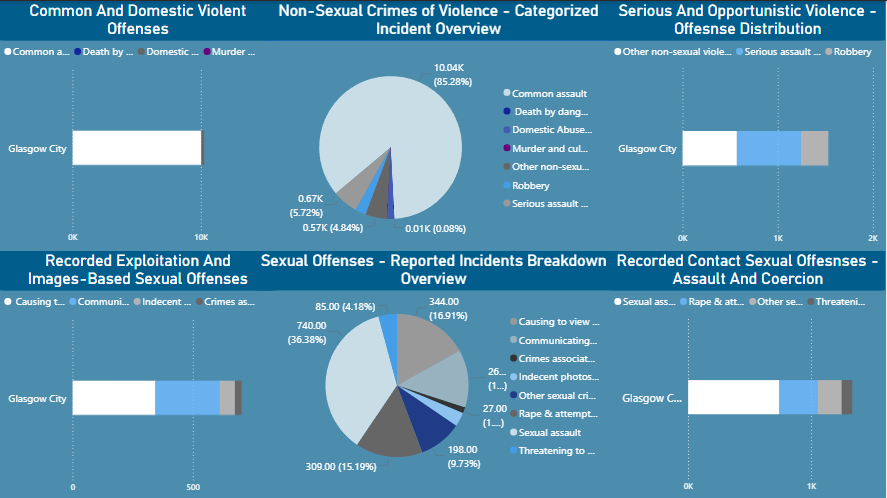

What the dashboard file says about the page in this screenshot:
{"tool":"powerbi","page":{"name":"Page 2","canvas":[1280,720],"ordinal":1},"visuals":[{"type":"barChart","title":"Serious And Opportunistic Violence - Offesnse Distribution","fields":{"Category":["Scotland Crime Report 2022-23, Cities Breakdown.Reference Area"],"Y":["Sum(Scotland Crime Report 2022-23, Cities Breakdown.Crimes: Group 1: Other non-sexual violence)","Sum(Scotland Crime Report 2022-23, Cities Breakdown.Crimes: Group 1: Serious assault and attempted murder)","Sum(Scotland Crime Report 2022-23, Cities Breakdown.Crimes: Group 1: Robbery)"]},"box":[881.9,0,398.1,361.2],"z":0},{"type":"barChart","title":"Recorded Exploitation And Images-Based Sexual Offenses","fields":{"Category":["Scotland Crime Report 2022-23, Cities Breakdown.Reference Area"],"Y":["Sum(Scotland Crime Report 2022-23, Cities Breakdown.Crimes: Group 2: Causing to view sexual activity or images)","Sum(Scotland Crime Report 2022-23, Cities Breakdown.Crimes: Group 2: Communicating indecently)","Sum(Scotland Crime Report 2022-23, Cities Breakdown.Crimes: Group 2: Indecent photos of children)","Sum(Scotland Crime Report 2022-23, Cities Breakdown.Crimes: Group 2: Crimes associated with prostitution)"]},"box":[0,361.2,398.1,359.5],"z":1000},{"type":"barChart","title":"Common And Domestic Violent Offenses","fields":{"Category":["Scotland Crime Report 2022-23, Cities Breakdown.Reference Area"],"Y":["Sum(Scotland Crime Report 2022-23, Cities Breakdown.Crimes: Group 1: Common assault)","Sum(Scotland Crime Report 2022-23, Cities Breakdown.Crimes: Group 1: Death by dangerous driving)","Sum(Scotland Crime Report 2022-23, Cities Breakdown.Crimes: Group 1: Domestic Abuse (Scotland) Act 2018)","Sum(Scotland Crime Report 2022-23, Cities Breakdown.Crimes: Group 1: Murder and culpable homicide)"]},"box":[0,0,398.1,359.5],"z":2000},{"type":"barChart","title":"Recorded Contact Sexual Offesnses - Assault And Coercion","fields":{"Category":["Scotland Crime Report 2022-23, Cities Breakdown.Reference Area"],"Y":["Sum(Scotland Crime Report 2022-23, Cities Breakdown.Crimes: Group 2: Sexual assault)","Sum(Scotland Crime Report 2022-23, Cities Breakdown.Crimes: Group 2: Rape & attempted rape)","Sum(Scotland Crime Report 2022-23, Cities Breakdown.Crimes: Group 2: Other sexual crimes)","Sum(Scotland Crime Report 2022-23, Cities Breakdown.Crimes: Group 2: Threatening to or disclosing intimate images)"]},"box":[881.9,361.2,398.1,357.8],"z":3000},{"type":"pieChart","fields":{"Y":["Sum(Scotland Crime Report 2022-23, Cities Breakdown.Crimes: Group 1: Common assault)","Sum(Scotland Crime Report 2022-23, Cities Breakdown.Crimes: Group 1: Death by dangerous driving)","Sum(Scotland Crime Report 2022-23, Cities Breakdown.Crimes: Group 1: Domestic Abuse (Scotland) Act 2018)","Sum(Scotland Crime Report 2022-23, Cities Breakdown.Crimes: Group 1: Murder and culpable homicide)","Sum(Scotland Crime Report 2022-23, Cities Breakdown.Crimes: Group 1: Other non-sexual violence)","Sum(Scotland Crime Report 2022-23, Cities Breakdown.Crimes: Group 1: Robbery)","Sum(Scotland Crime Report 2022-23, Cities Breakdown.Crimes: Group 1: Serious assault and attempted murder)"]},"box":[397.6,46.3,474.2,331.1],"z":4000},{"type":"pieChart","fields":{"Y":["Sum(Scotland Crime Report 2022-23, Cities Breakdown.Crimes: Group 2: Causing to view sexual activity or images)","Sum(Scotland Crime Report 2022-23, Cities Breakdown.Crimes: Group 2: Communicating indecently)","Sum(Scotland Crime Report 2022-23, Cities Breakdown.Crimes: Group 2: Crimes associated with prostitution)","Sum(Scotland Crime Report 2022-23, Cities Breakdown.Crimes: Group 2: Indecent photos of children)","Sum(Scotland Crime Report 2022-23, Cities Breakdown.Crimes: Group 2: Other sexual crimes)","Sum(Scotland Crime Report 2022-23, Cities Breakdown.Crimes: Group 2: Rape & attempted rape)","Sum(Scotland Crime Report 2022-23, Cities Breakdown.Crimes: Group 2: Sexual assault)","Sum(Scotland Crime Report 2022-23, Cities Breakdown.Crimes: Group 2: Threatening to or disclosing intimate images)"]},"box":[406.5,389.7,475.4,330.9],"z":5000},{"type":"shape","title":"Non-Sexual Crimes of Violence - Categorized Incident Overview ","box":[378.8,0,510.4,57.8],"z":6000},{"type":"shape","title":"Sexual Offenses - Reported Incidents Breakdown Overview","box":[371.2,361.2,510.7,57.1],"z":7000},{"type":"slicer","fields":{"Values":["Scotland Crime Report 2022-23, Cities Breakdown.Reference Area"]},"box":[0,705.5,13,13],"z":8000}]}

Visuals, with their boxes in screenshot pixels (x1, y1, x2, y2), scaled from the page's 1280x720 canvas onto the 887x498 screenshot:
"Serious And Opportunistic Violence - Offesnse Distribution" barChart: <region>611, 0, 886, 250</region>
"Recorded Exploitation And Images-Based Sexual Offenses" barChart: <region>0, 250, 276, 497</region>
"Common And Domestic Violent Offenses" barChart: <region>0, 0, 276, 249</region>
"Recorded Contact Sexual Offesnses - Assault And Coercion" barChart: <region>611, 250, 886, 497</region>
pieChart - Sum(Scotland Crime Report 2022-23, Cities Breakdown.Crimes: Group 1: Common assault) x Sum(Scotland Crime Report 2022-23, Cities Breakdown.Crimes: Group 1: Death by dangerous driving): <region>276, 32, 604, 261</region>
pieChart - Sum(Scotland Crime Report 2022-23, Cities Breakdown.Crimes: Group 2: Causing to view sexual activity or images) x Sum(Scotland Crime Report 2022-23, Cities Breakdown.Crimes: Group 2: Communicating indecently): <region>282, 270, 611, 497</region>
"Non-Sexual Crimes of Violence - Categorized Incident Overview " shape: <region>262, 0, 616, 40</region>
"Sexual Offenses - Reported Incidents Breakdown Overview" shape: <region>257, 250, 611, 289</region>
slicer - Scotland Crime Report 2022-23, Cities Breakdown.Reference Area: <region>0, 488, 9, 497</region>
